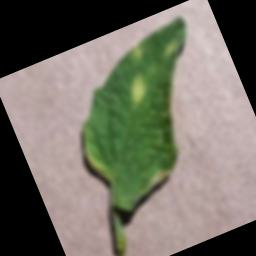Leaf_Mold: (78, 132, 113, 186), (119, 70, 157, 110), (155, 35, 183, 61), (142, 167, 171, 189), (125, 42, 148, 66)
